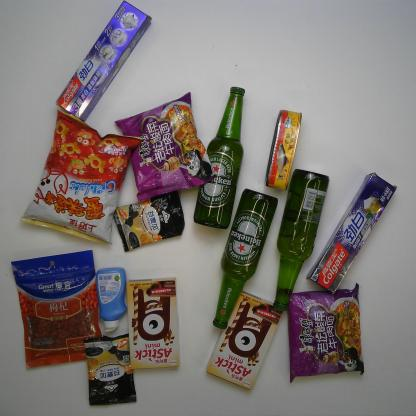Alcohol: (209, 189, 280, 331), (272, 169, 329, 311), (195, 86, 246, 228)
Canned Food: (264, 107, 304, 193)
Dessert: (207, 291, 285, 390), (123, 278, 182, 373)
Dried Fruit: (7, 249, 104, 371)
Instant Drink: (112, 192, 187, 252), (82, 334, 138, 408)
Instant Noodles: (113, 89, 218, 203), (284, 284, 366, 382)
Personal Hygiene: (54, 0, 152, 124), (305, 173, 398, 296), (92, 265, 132, 332)
Puffed Food: (20, 108, 144, 249)
